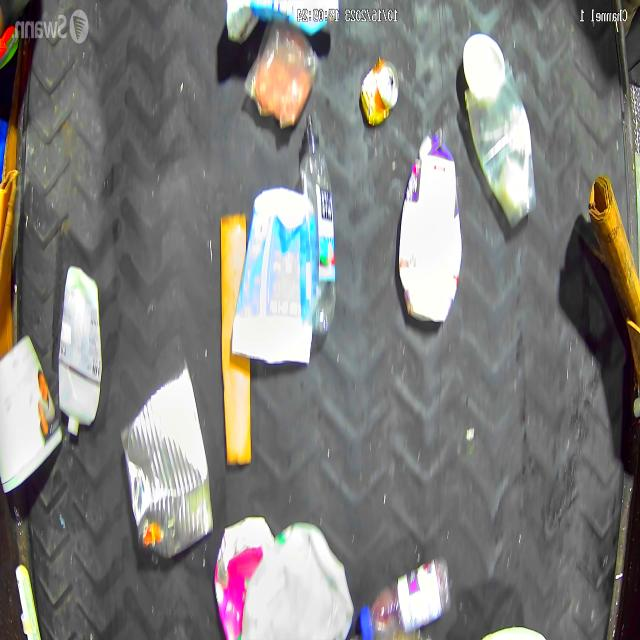can: (122, 363, 211, 561), (360, 58, 401, 132)
milk_jug: (240, 526, 352, 640)
plastic_bottle: (361, 562, 449, 640)
